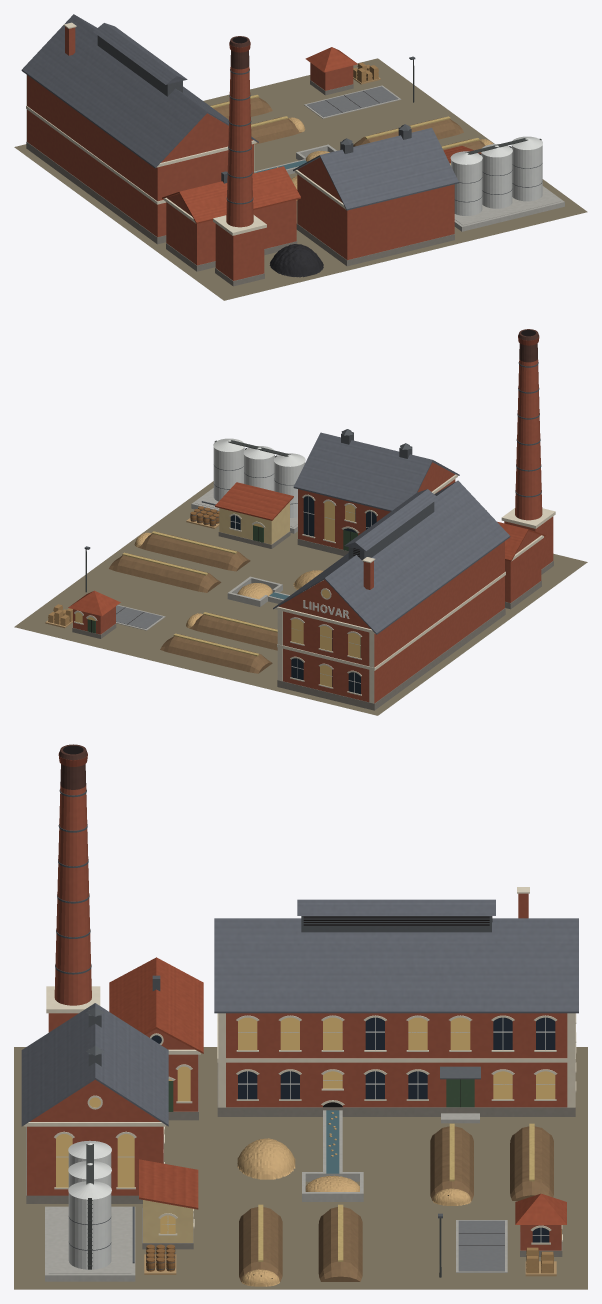
The model's file is lihovar.glb.
3 views of the same model, one above another, from view 1: azimuth 30°, elevation 25°; view 2: azimuth 150°, elevation 25°; view 3: azimuth 270°, elevation 25° (orthographic). The views are drawn at different scales.
Visible parts, largest first — view 1: dum; view 2: dum, noc; view 3: dum, noc.
Boxes of the visible parts, x1=… form: dum: x1=14, y1=14, x2=587, y2=300; dum: x1=14, y1=329, x2=587, y2=715; noc: x1=75, y1=501, x2=360, y2=687; dum: x1=14, y1=744, x2=587, y2=1289; noc: x1=56, y1=1017, x2=561, y2=1239.
Bounding box in the file's own units: 44.4 × 27.51 × 44.4.
Materials: 1 (1 with a texture image).
